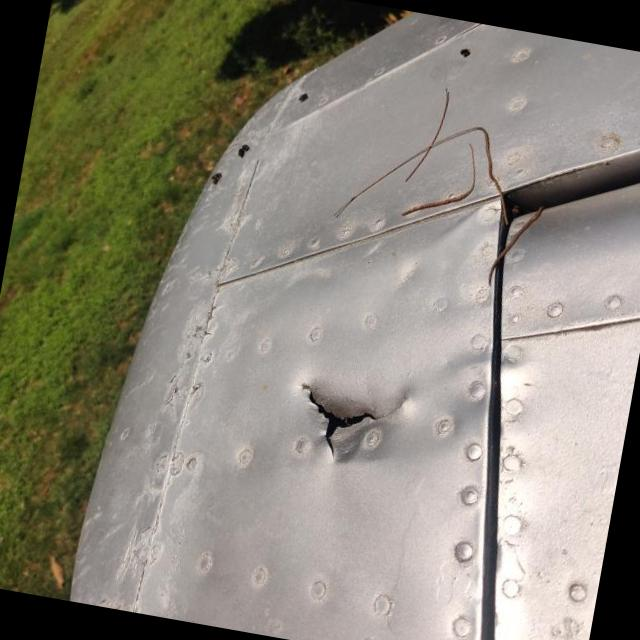Crack: (303, 370, 414, 463)
